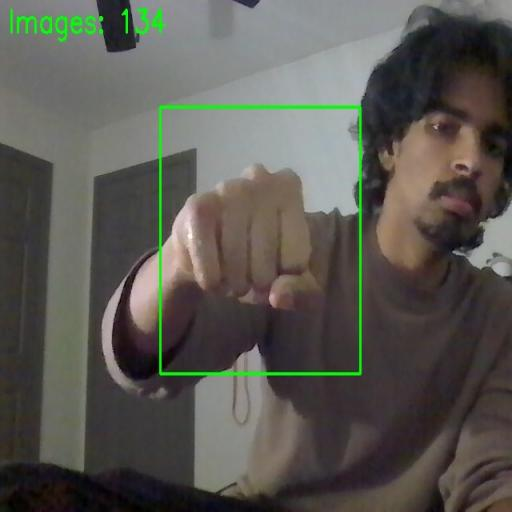backspace: (164, 110, 360, 372)
